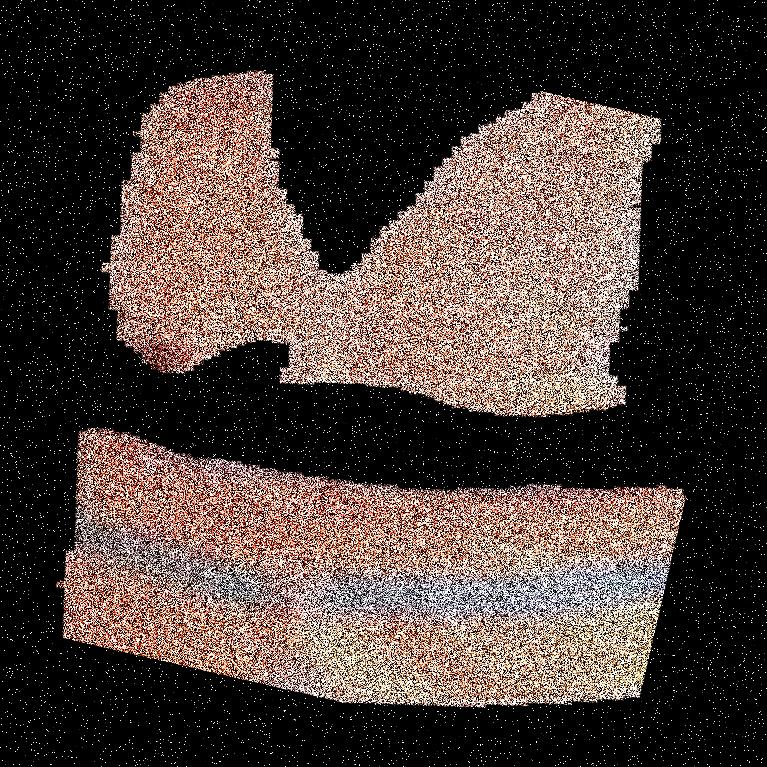Colete: (238, 0, 766, 766)
